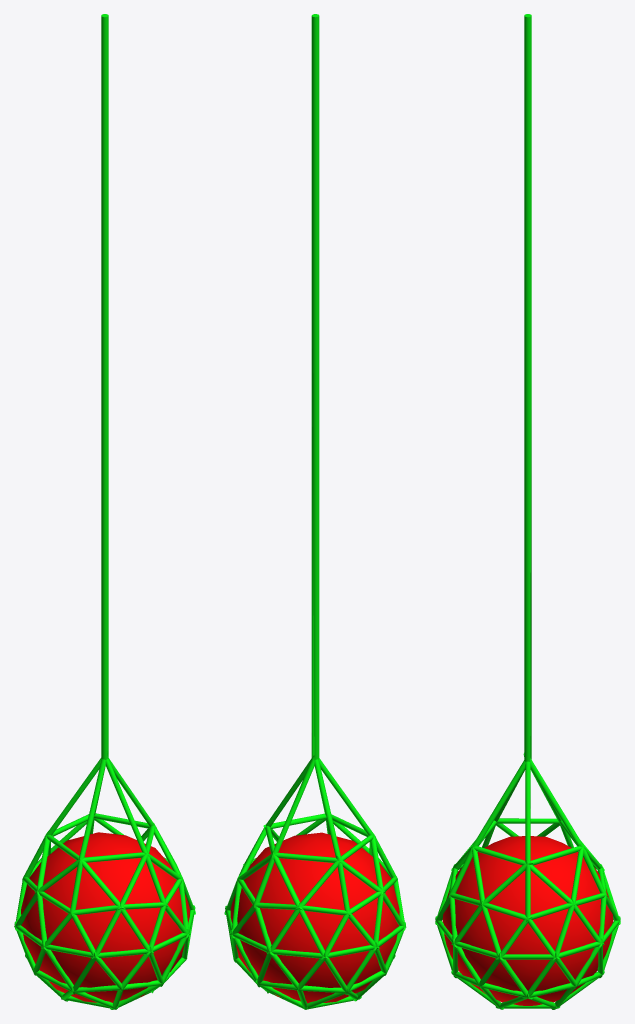
File: Lamp.FBX
The picture shows the model from 3 angles, left to right: view 1: azimuth 30°, elevation 25°; view 2: azimuth 150°, elevation 25°; view 3: azimuth 270°, elevation 25°; orthographic projection.
Visible parts, largest first — view 1: Lamp001; view 2: Lamp001; view 3: Lamp001.
Boxes of the visible parts, bbox=[...] form: Lamp001: bbox=[14, 14, 195, 1009]; Lamp001: bbox=[224, 14, 406, 1009]; Lamp001: bbox=[435, 14, 620, 1009].
Bounding box in the file's own units: 49.21 × 302 × 51.27.
